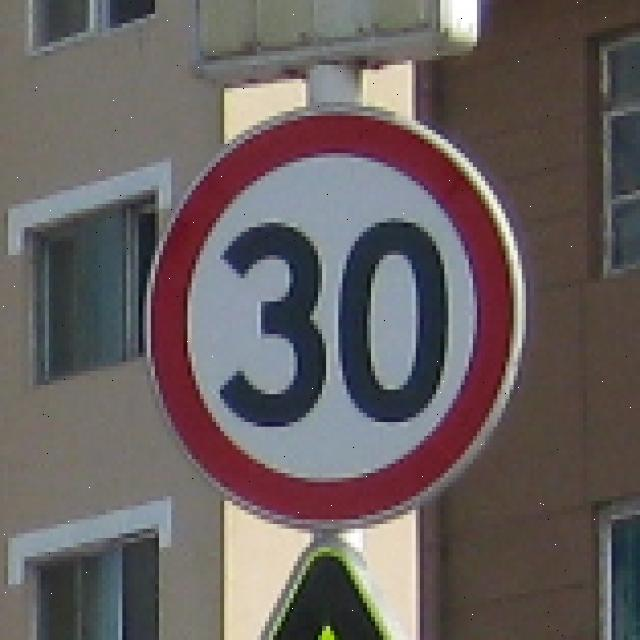speed limit 30: (146, 109, 525, 530)
